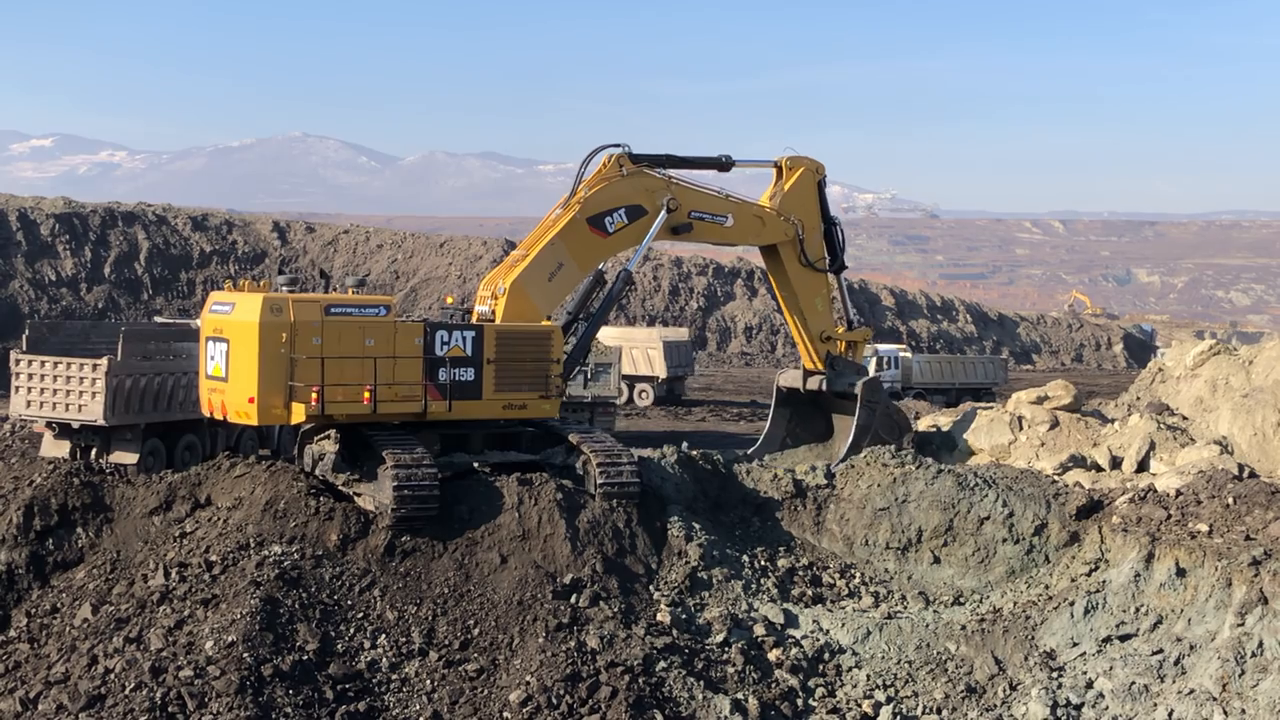empty: (746, 364, 915, 489)
